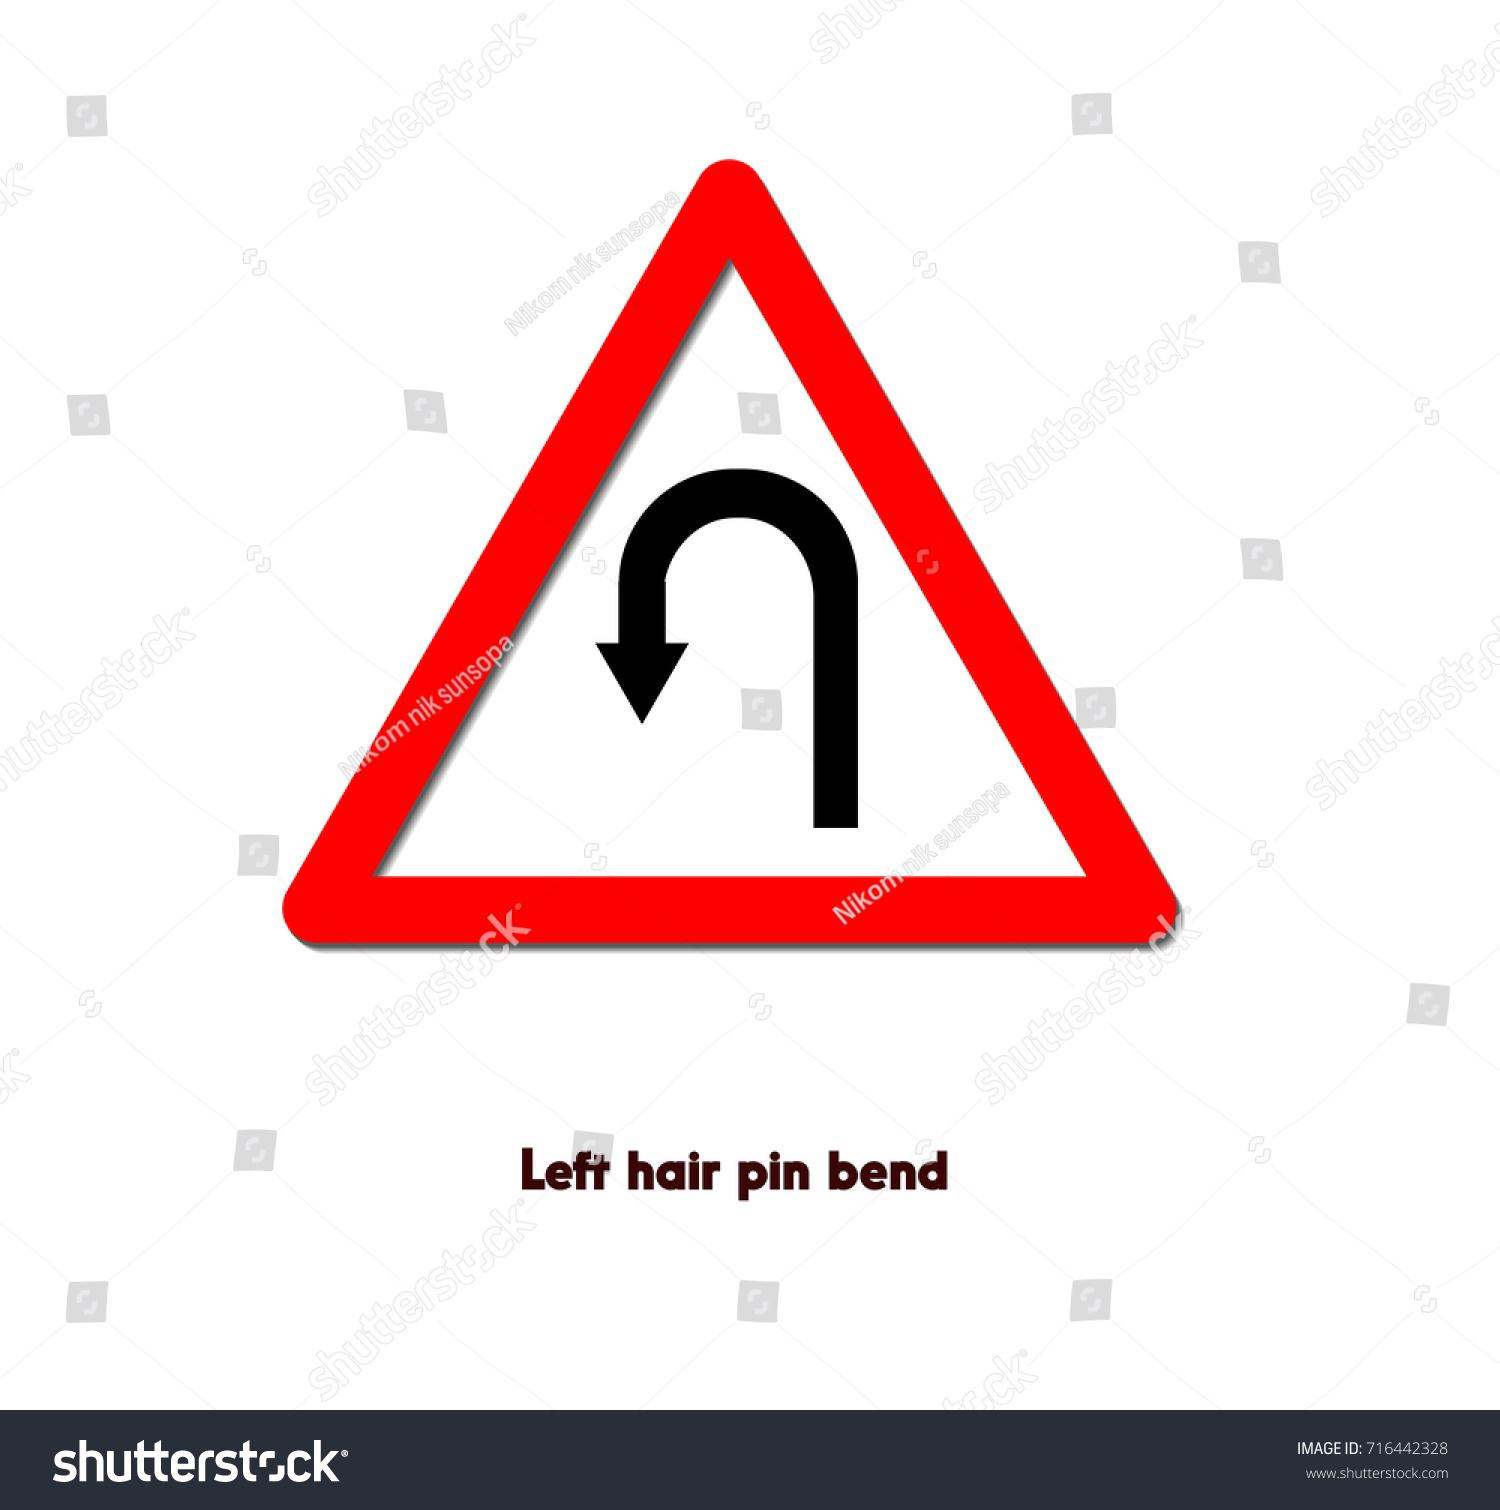Left Hair Pin Bend: (261, 104, 1261, 1260)
